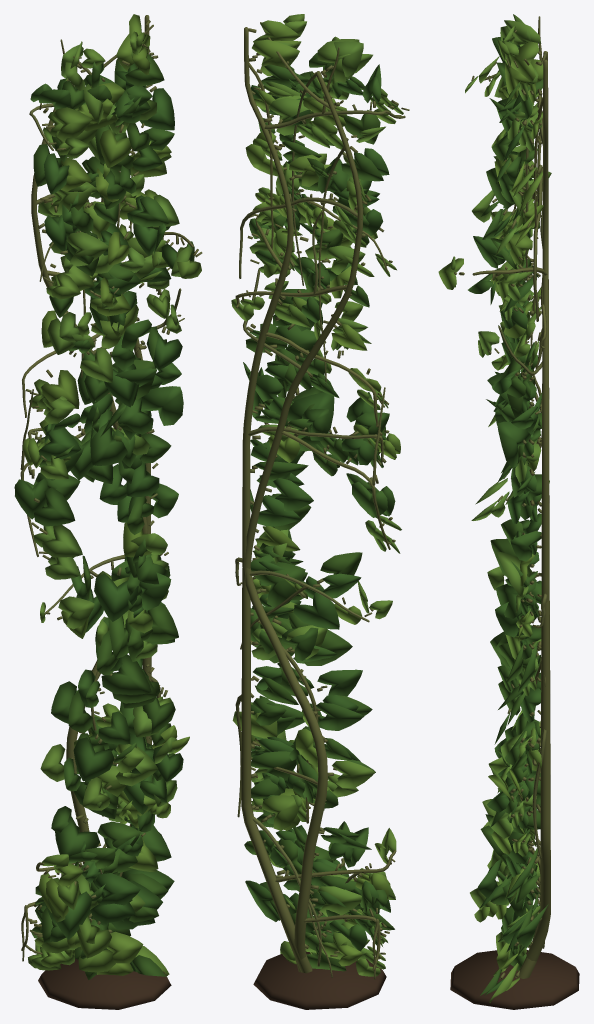
Rendered from climber_ivy_narrow.glb.
3 views of the same model, side by side, from view 1: azimuth 30°, elevation 25°; view 2: azimuth 150°, elevation 25°; view 3: azimuth 270°, elevation 25° (orthographic).
Visible parts, largest first — view 1: Sammel Pflanze, Sammel Putz; view 2: Sammel Pflanze, Sammel Putz; view 3: Sammel Pflanze, Sammel Putz.
Boxes of the visible parts, x1,y1,x2,y2 form: Sammel Pflanze: (14,14,201,979); Sammel Putz: (20,15,202,1009); Sammel Pflanze: (231,14,403,976); Sammel Putz: (235,22,409,1009); Sammel Pflanze: (438,14,551,1002); Sammel Putz: (450,16,579,1009).
Bounding box in the file's own units: 0.4789 × 2.71 × 0.3572.
